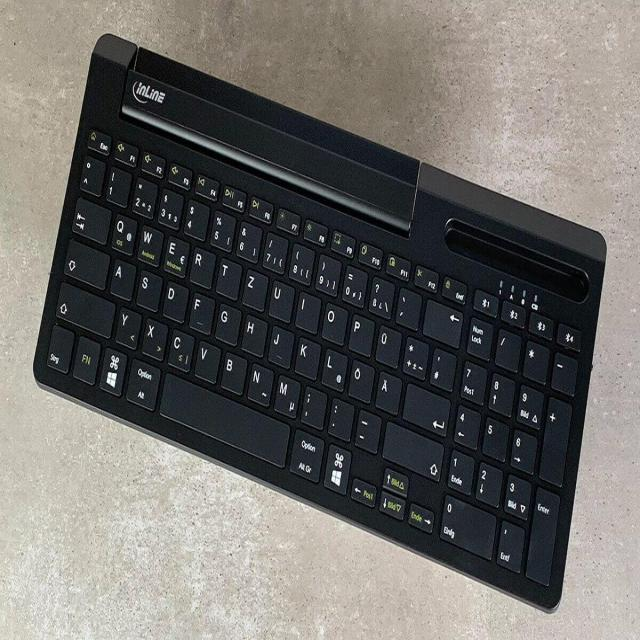0: (340, 261, 366, 305)
1: (105, 165, 130, 205)
2: (130, 173, 157, 216)
3: (157, 184, 183, 226)
4: (183, 195, 209, 238)
5: (208, 207, 235, 249)
6: (234, 218, 261, 260)
7: (261, 229, 287, 271)
8: (287, 239, 314, 283)
9: (313, 250, 341, 294)
a: (109, 257, 135, 298)
accent: (394, 284, 421, 327)
ae: (373, 369, 402, 414)
alt-left: (125, 354, 160, 408)
altgr-right: (287, 424, 324, 480)
b: (219, 349, 246, 392)
c: (165, 327, 194, 369)
caret: (78, 155, 104, 193)
comma: (300, 382, 327, 427)
d: (161, 279, 187, 321)
del: (422, 294, 462, 345)
e: (162, 232, 189, 274)
enter: (402, 379, 450, 435)
f: (187, 290, 214, 332)
g: (213, 302, 240, 342)
h: (240, 311, 266, 355)
hash: (428, 345, 456, 390)
i: (294, 289, 320, 331)
j: (266, 323, 293, 366)
k: (293, 336, 320, 378)
keyboard: (32, 27, 607, 615)
l: (320, 346, 347, 389)
m: (272, 371, 300, 417)
minus: (353, 406, 381, 452)
n: (246, 361, 273, 404)
o: (320, 300, 347, 344)
oe: (346, 358, 373, 401)
p: (347, 311, 374, 355)
plus: (401, 333, 428, 376)
point: (327, 394, 354, 439)
q: (110, 211, 137, 252)
r: (189, 245, 216, 286)
s: (134, 268, 161, 309)
shift-left: (54, 278, 115, 336)
shift-lock: (62, 236, 108, 288)
shift-right: (382, 418, 444, 480)
space: (158, 369, 289, 468)
ss: (367, 273, 394, 316)
strg-left: (44, 322, 74, 373)
t: (214, 256, 241, 298)
tab: (70, 193, 110, 242)
u: (267, 278, 294, 321)
ue: (373, 322, 401, 366)
v: (193, 338, 220, 380)
w: (136, 221, 162, 263)
x: (140, 315, 167, 356)
y: (114, 304, 141, 347)
z: (241, 266, 268, 308)
